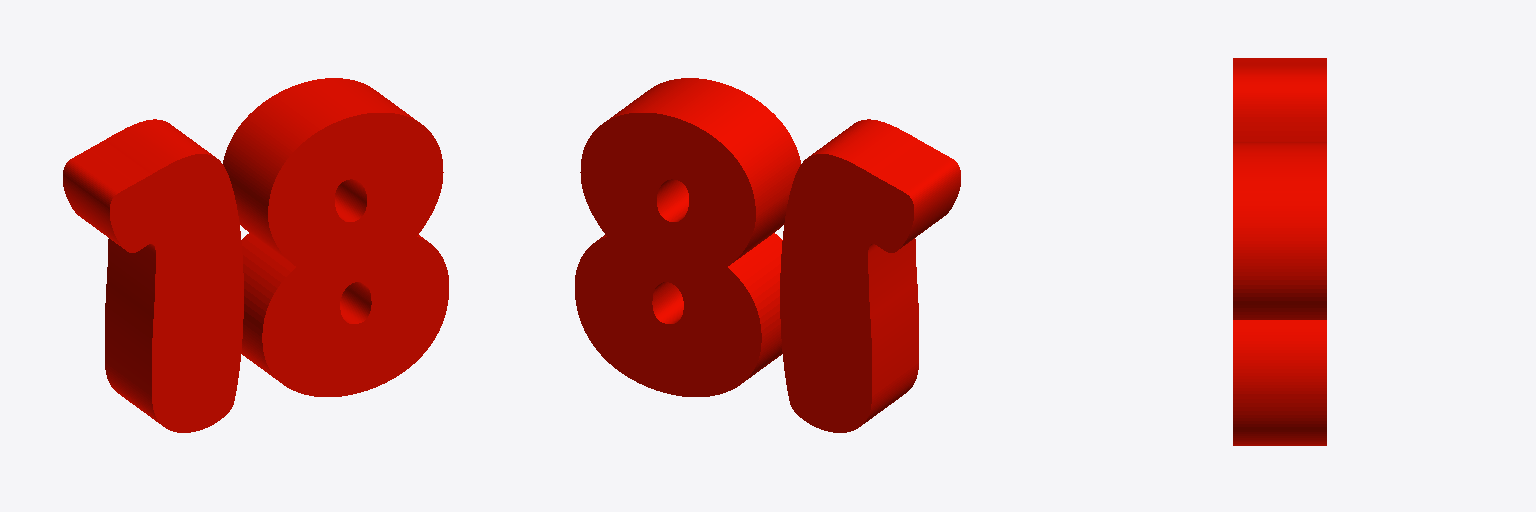
The model's file is Number18.obj.
3 views of the same model, side by side, from view 1: azimuth 30°, elevation 25°; view 2: azimuth 150°, elevation 25°; view 3: azimuth 270°, elevation 25° (orthographic).
Visible parts, largest first — view 1: Text; view 2: Text; view 3: Text.
Boxes of the visible parts, x1=… form: Text: x1=63, y1=78, x2=448, y2=432; Text: x1=575, y1=78, x2=960, y2=432; Text: x1=1233, y1=58, x2=1326, y2=445.
Size of the model in its own units: 0.7512 by 0.5885 by 0.18.